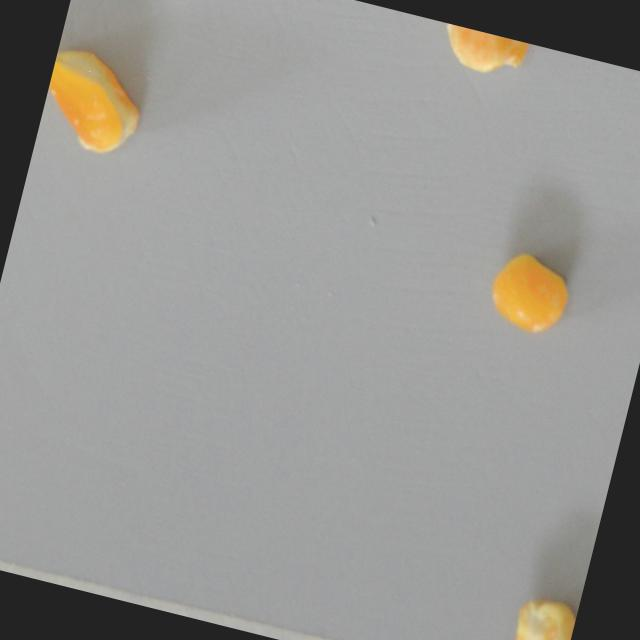dañado: (475, 238, 580, 344)
pelicula: (35, 39, 156, 164), (429, 20, 530, 85), (505, 589, 579, 640)
